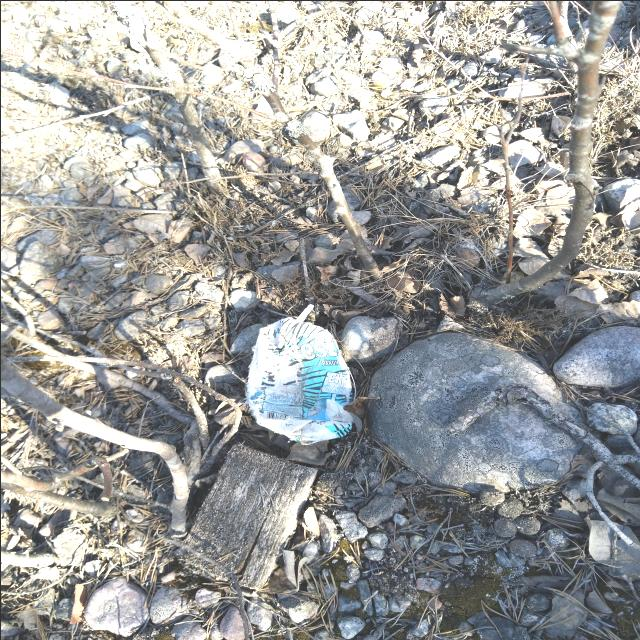Drink carton: (246, 316, 353, 444)
Plastic straw: (295, 303, 313, 320)
